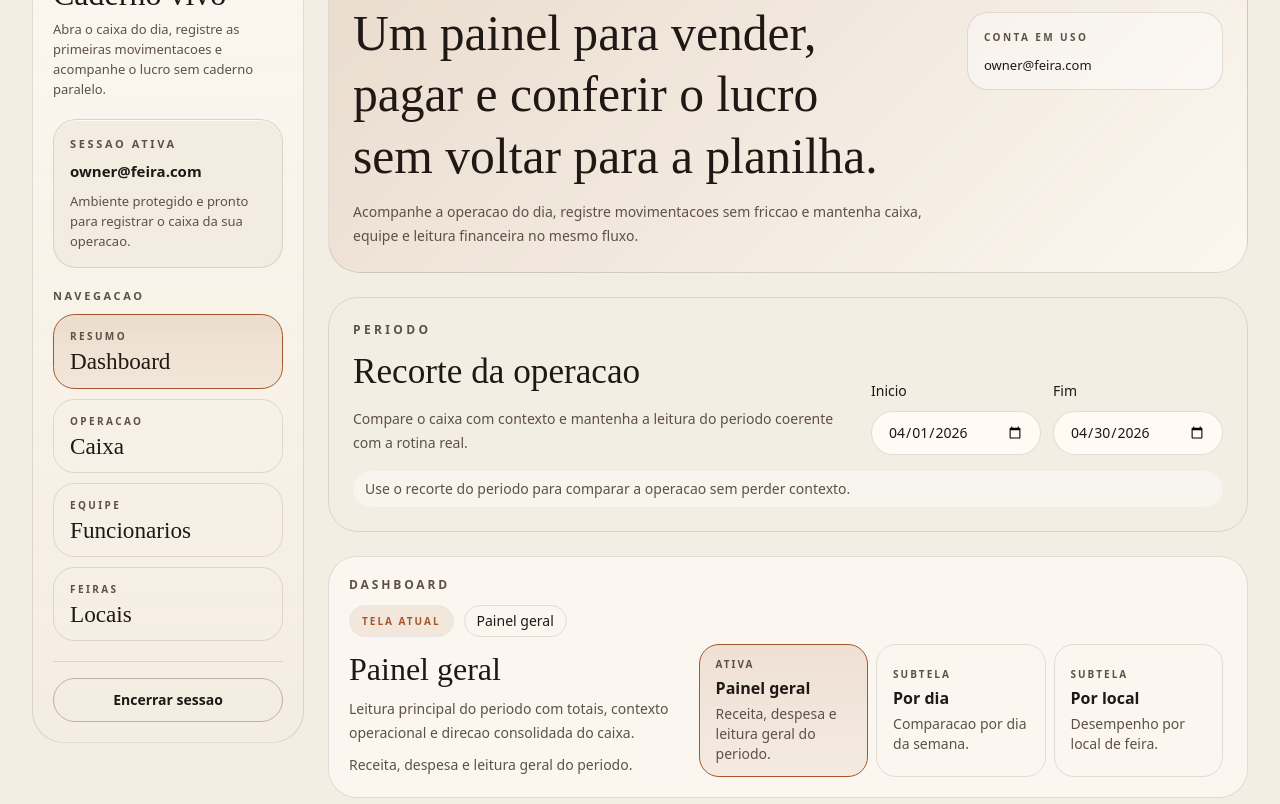
Test case: App context flows › consulta fechamento por local em subtela dedicada
Click the button with test id "nav-locations": x=168, y=604 [53,567,283,641]
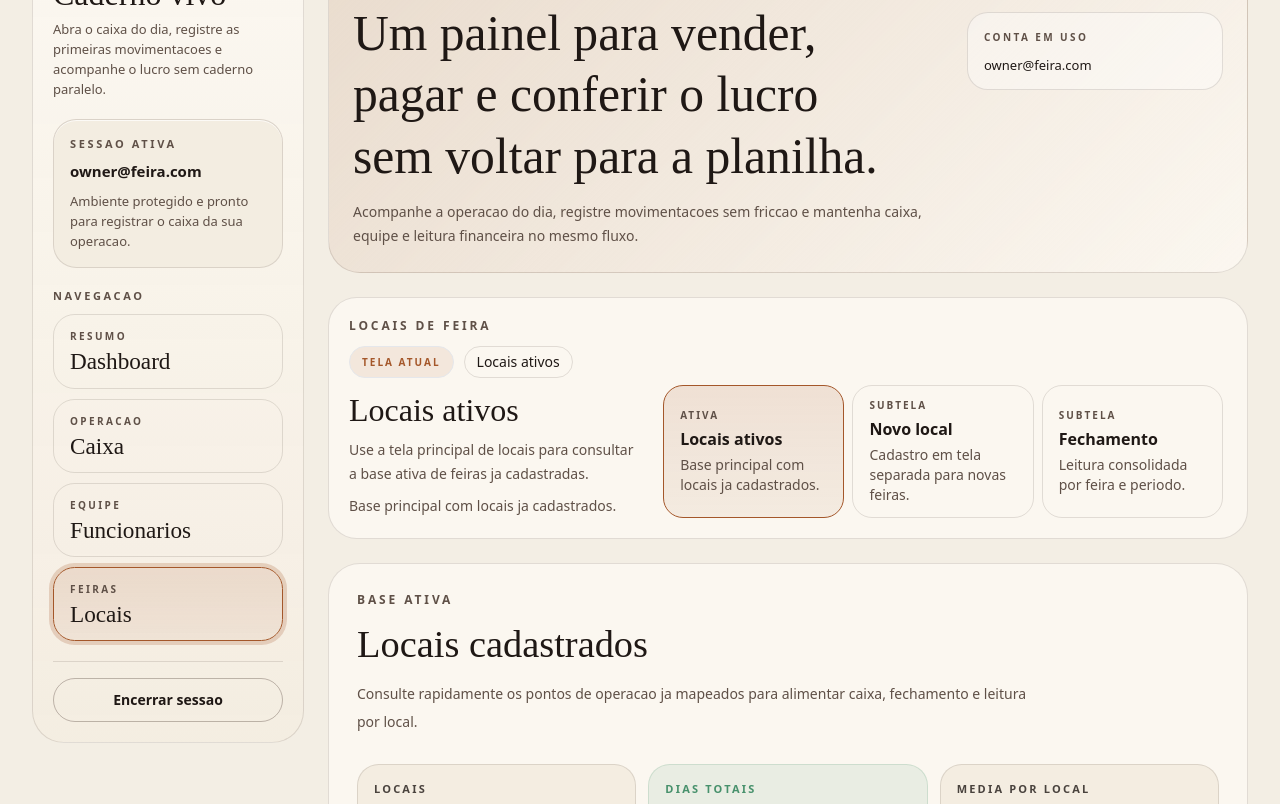
Click the tab "Subtela Fechamento Leitura consolidada por feira e periodo.": x=1132, y=452 [1042,386,1223,518]
(page scrolled)
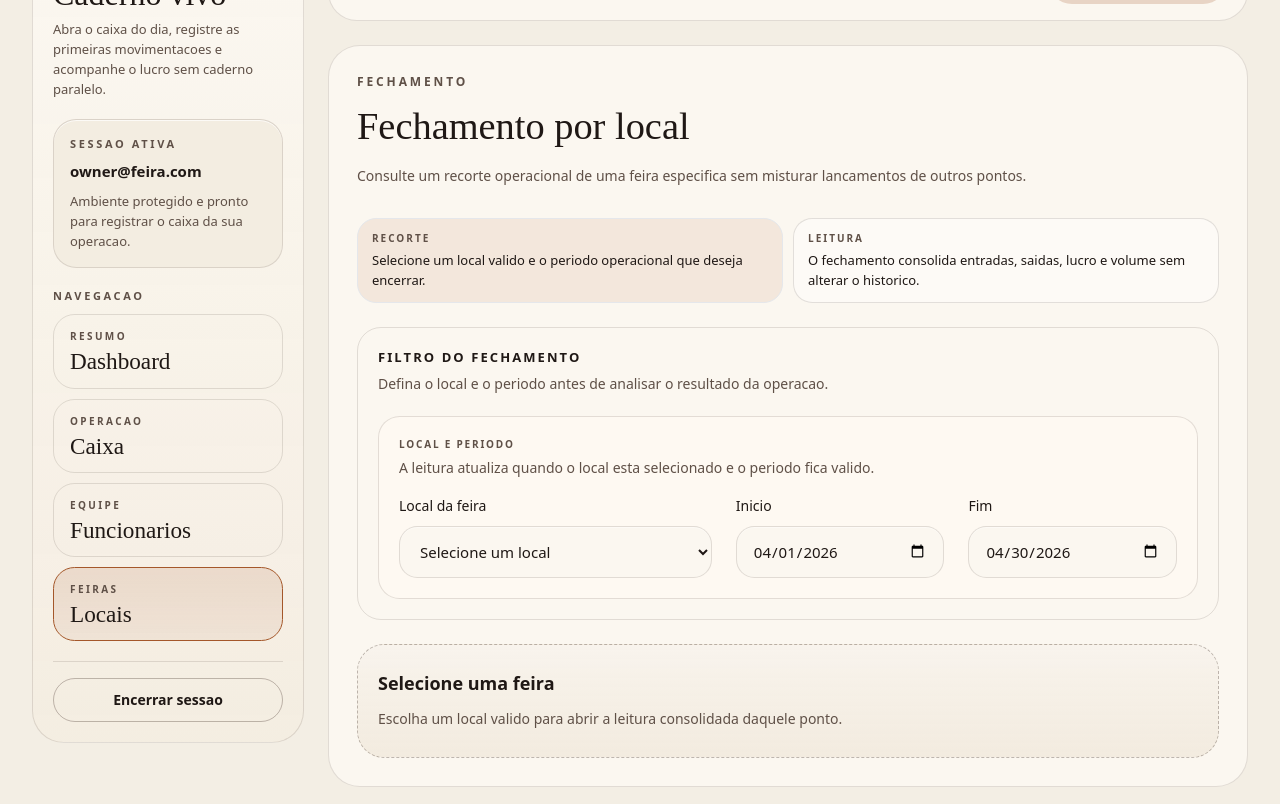
Select "Feira Central • Campinas/SP" in the dropdown labelled "Local da feira": x=555, y=552 [399,526,712,578]
(page scrolled)
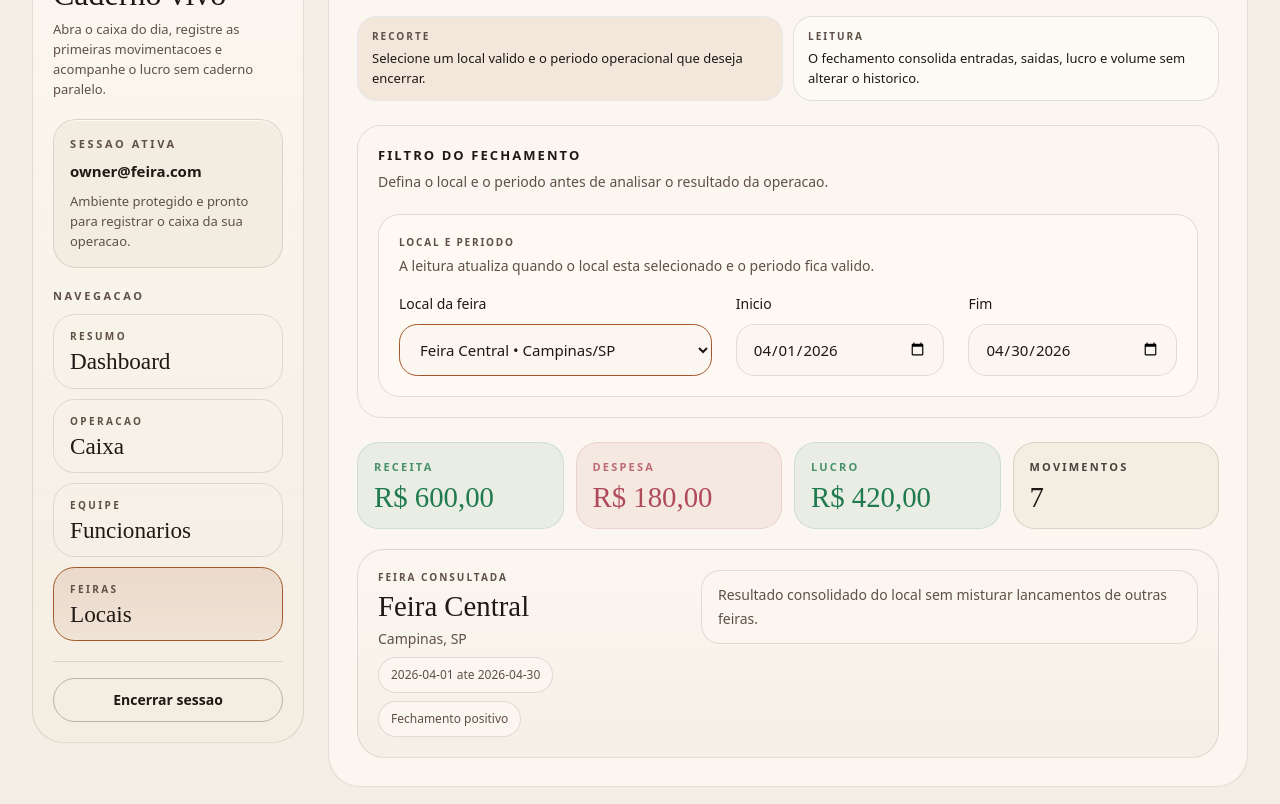
Expected: the element with test id "fair-location-closure-summary" is shown, [357,442,1219,758]
Expected: the text "Feira Central" is shown, [378,590,529,622]
Expected: the text "Campinas, SP" is shown, [378,629,467,648]
